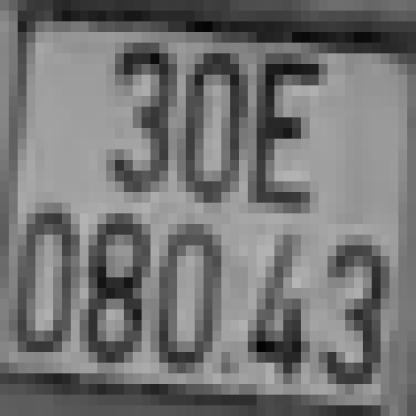0: (9, 203, 80, 352), (186, 53, 239, 203), (160, 213, 212, 363)
3: (106, 42, 177, 202), (310, 235, 380, 373)
4: (239, 224, 301, 373)
8: (88, 203, 150, 352)
E: (248, 53, 310, 203)
